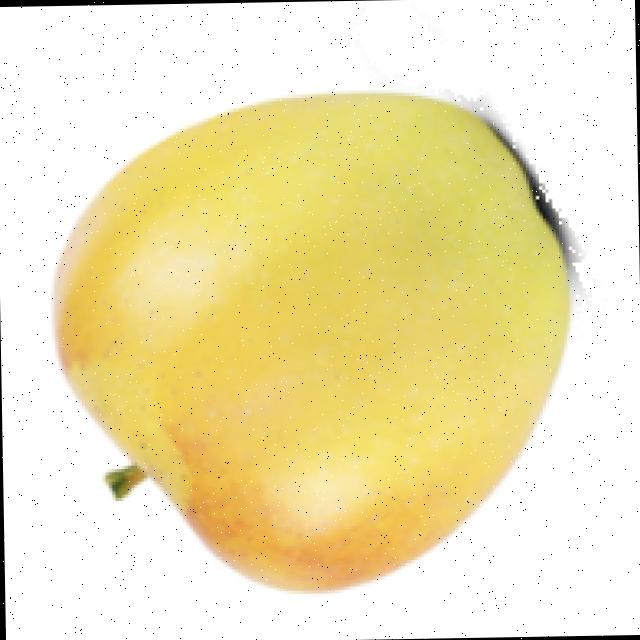apple: (47, 72, 592, 599)
